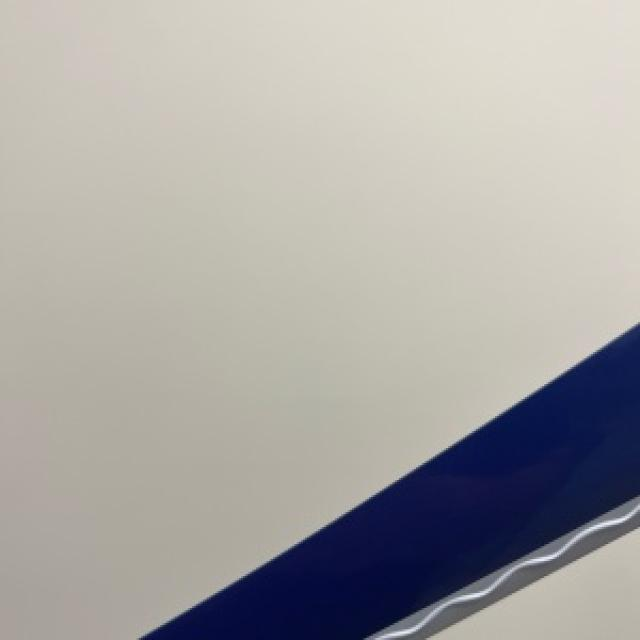healthy: (139, 324, 638, 638)
